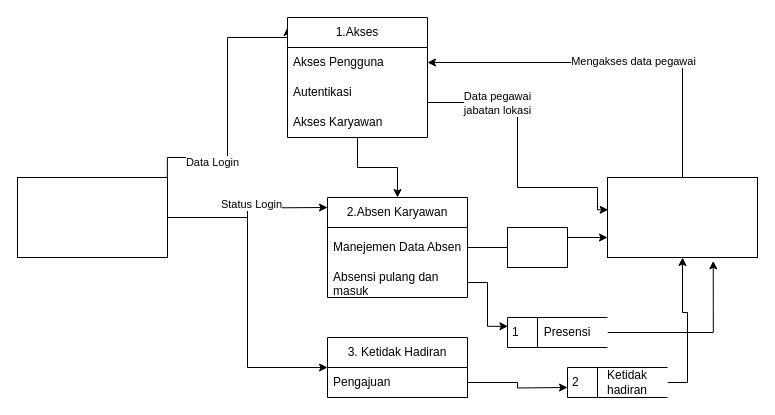
Some shapes in this 775 by 415 pixel diagram are drawn without their labels. Each missing label, with the centre of its shape:
"Admin" goes at [682,217].
"Pegawai Dan Admin" goes at [92,217].
"User" goes at [537,247].
